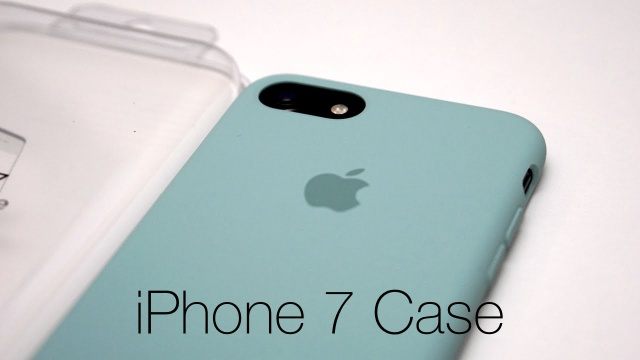apple: (299, 156, 394, 225)
